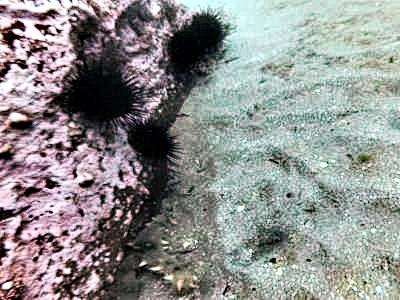urchin: (58, 55, 144, 130), (123, 118, 180, 163), (164, 26, 208, 68), (184, 9, 229, 50)
